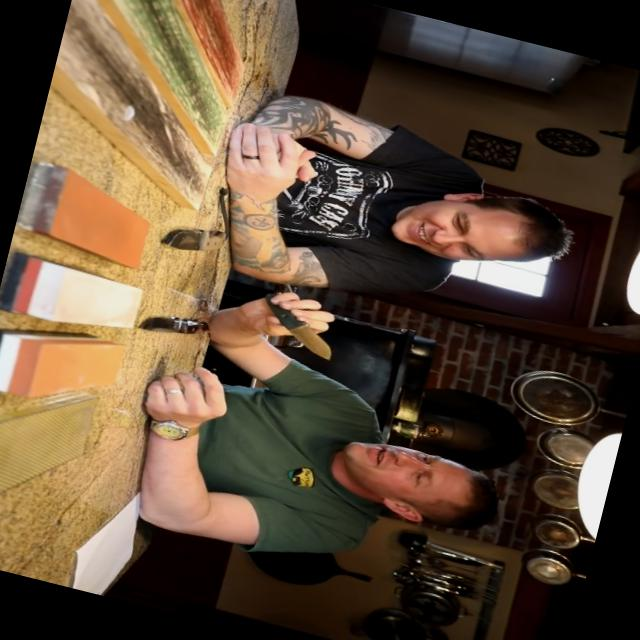knife: (250, 284, 354, 370)
